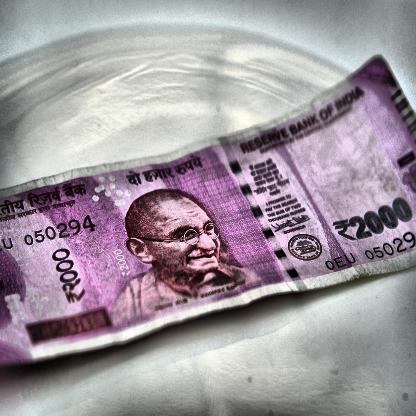Rs2000: (329, 189, 416, 250)
